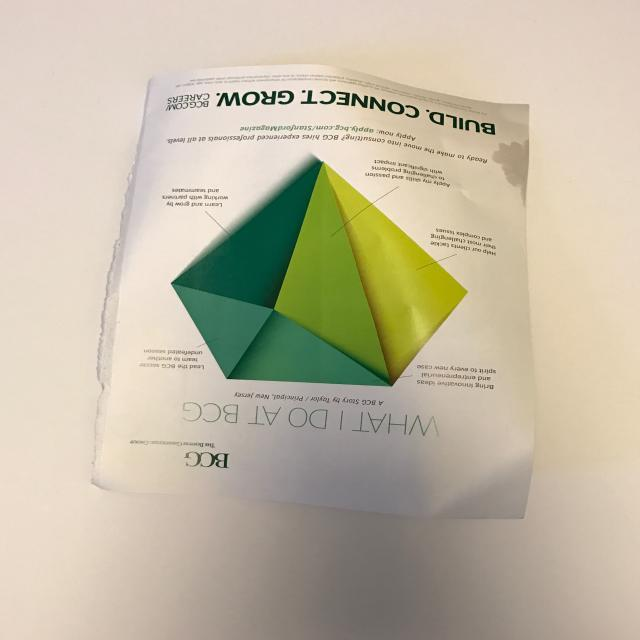paper: (93, 62, 538, 520)
